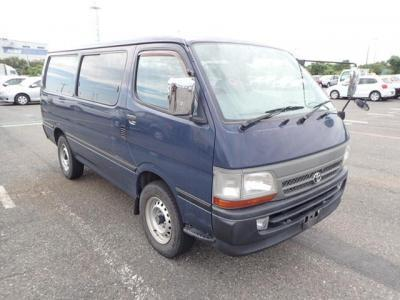van: (40, 36, 351, 256)
